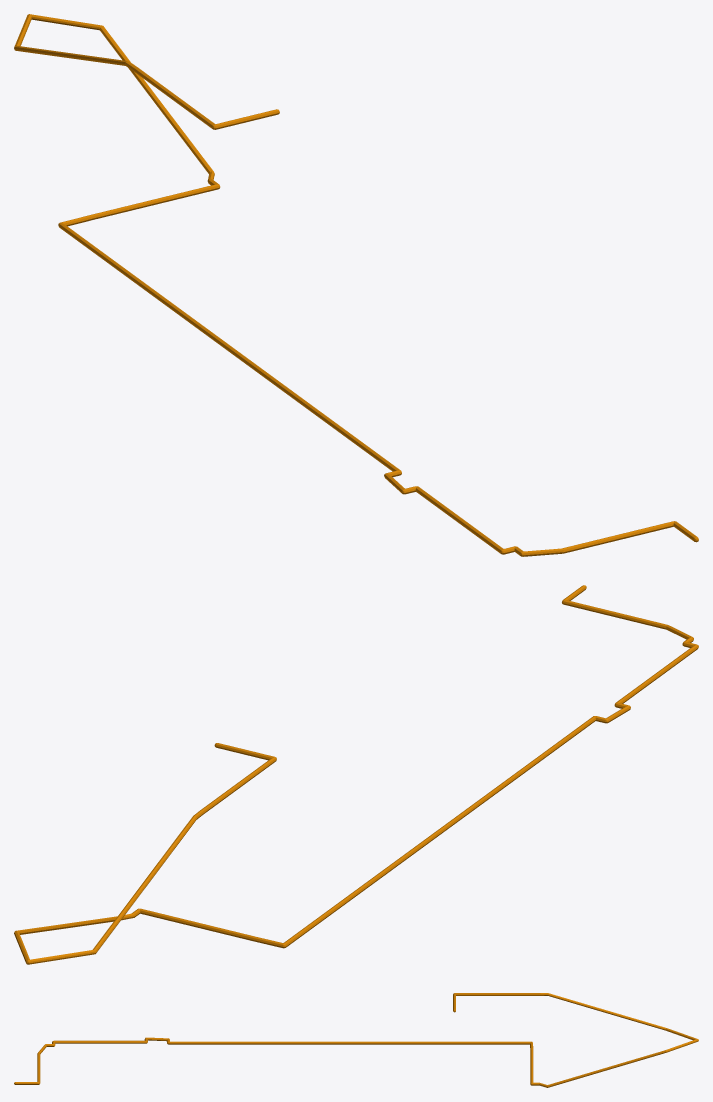
The picture shows the model from 3 angles, top to bottom: view 1: azimuth 30°, elevation 25°; view 2: azimuth 150°, elevation 25°; view 3: azimuth 270°, elevation 25°; orthographic projection. The views are drawn at different scales.
Size of the model in its own units: 749 by 520 by 4435.
